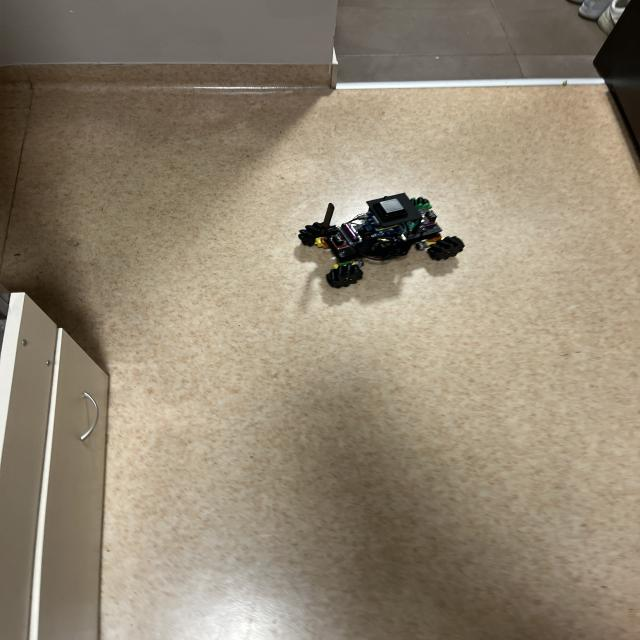robot: (298, 193, 464, 288)
